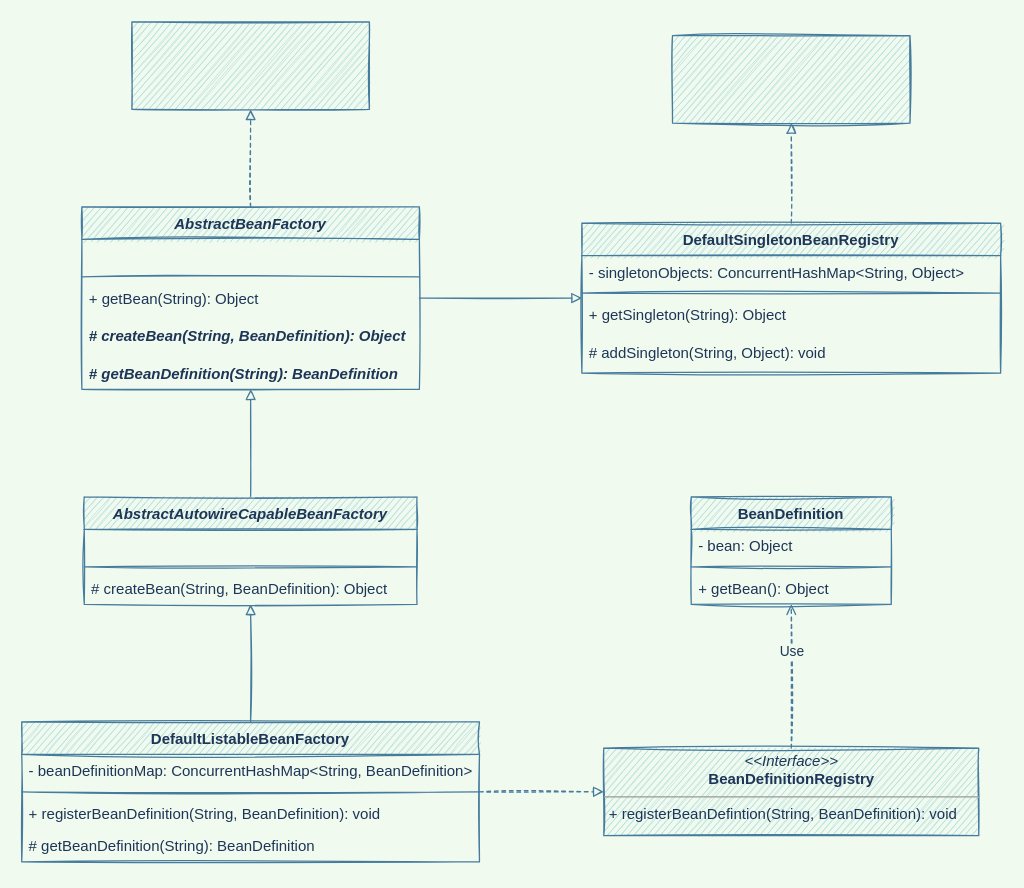
Some shapes in this 1024 by 888 pixel diagram are drawn without their labels. Each missing label, with the centre of its shape:
"<<Interface>> BeanFactory + getBean(String): Object" belongs at [250,65].
"<<Interface>> SingletonBeanRegistry + getSingleton(String): Object" belongs at [790,78].
